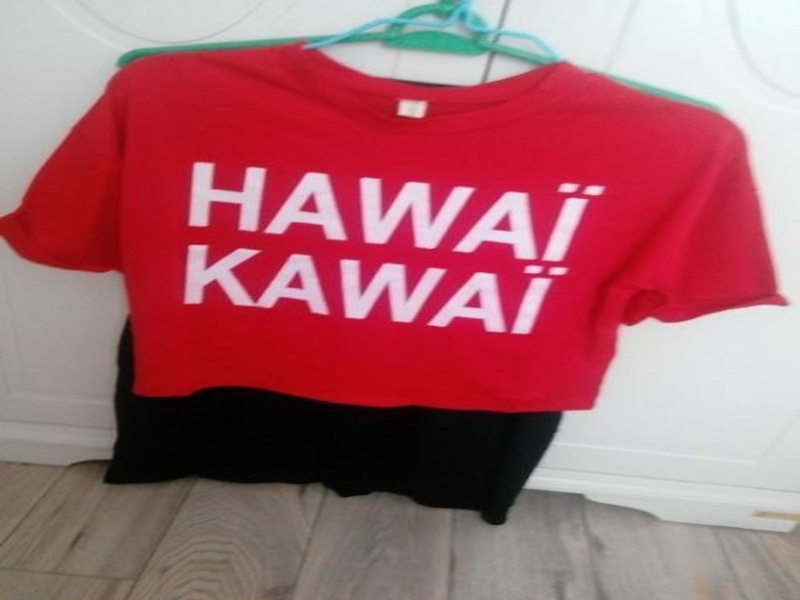short_sleeved_shirt: (0, 37, 793, 424)
skirt: (96, 23, 603, 537)
